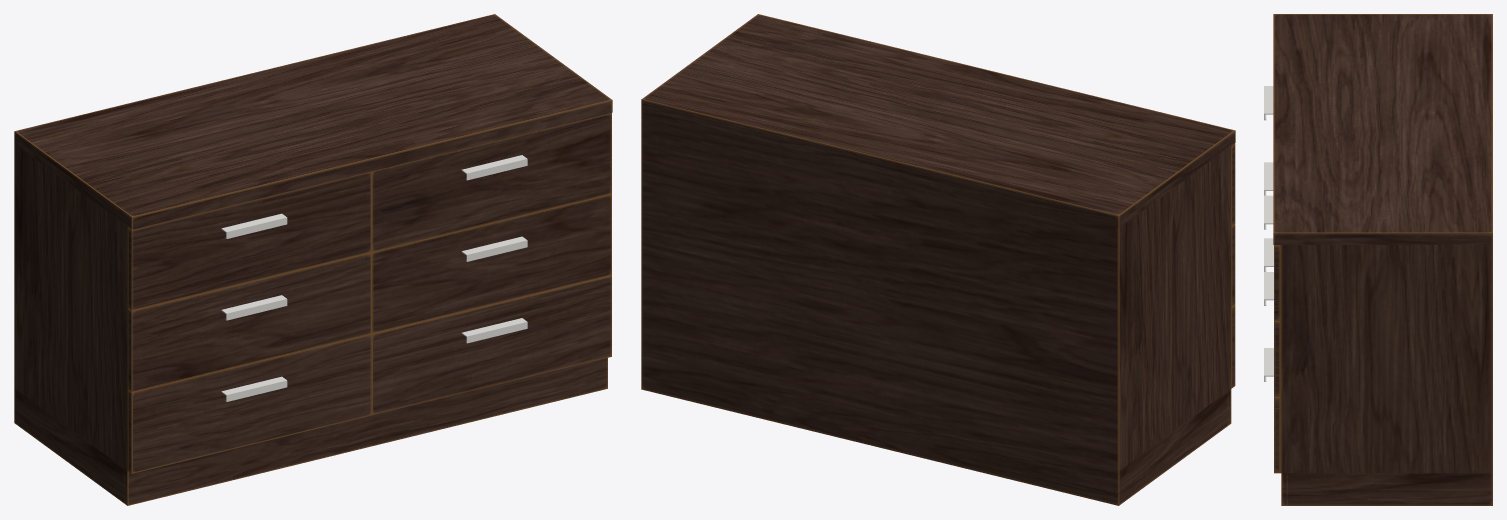
Rendered from wooden_cabinet_2.glb.
3 views of the same model, side by side, from view 1: azimuth 30°, elevation 25°; view 2: azimuth 150°, elevation 25°; view 3: azimuth 270°, elevation 25° (orthographic). The views are drawn at different scales.
Parts seen in each view (by area): view 1: Cabinet1.001_3, Cabinet1_2, Drawer.001_10, Drawer_8, Drawer.002_12, Drawer.003_14, Drawer.004_16, Drawer.005_18, Baseboard2_0, Cube.001_5, Handle_7, Handle.002_11 (+4 smaller); view 2: Cabinet1_2, Cabinet1.001_3, Cabinet2.003_4, Baseboard2.001_1, Cube.001_5; view 3: Cabinet1.001_3, Cabinet2.003_4, Cube.002_6, Drawer.003_14, Drawer.004_16, Drawer.005_18, Handle.005_17, Handle.002_11, Handle_7, Handle.001_9, Handle.003_13, Handle.004_15.
Boxes of the visible parts, <box> form: Cabinet1.001_3: <box>14,14,612,229</box>; Cabinet1_2: <box>14,144,127,470</box>; Drawer.001_10: <box>128,252,371,392</box>; Drawer_8: <box>128,334,371,473</box>; Drawer.002_12: <box>128,171,371,310</box>; Drawer.003_14: <box>372,275,611,415</box>; Drawer.004_16: <box>372,194,611,333</box>; Drawer.005_18: <box>372,113,611,252</box>; Baseboard2_0: <box>124,358,607,505</box>; Cube.001_5: <box>18,391,123,502</box>; Handle_7: <box>221,376,287,401</box>; Handle.002_11: <box>221,213,287,238</box>; Cabinet1_2: <box>880,146,1231,471</box>; Cabinet1.001_3: <box>641,14,1235,228</box>; Cabinet2.003_4: <box>641,112,879,412</box>; Baseboard2.001_1: <box>641,355,1122,505</box>; Cube.001_5: <box>1122,392,1227,502</box>; Cabinet1.001_3: <box>1273,14,1492,244</box>; Cabinet2.003_4: <box>1280,245,1492,473</box>; Cube.002_6: <box>1288,473,1486,505</box>; Drawer.003_14: <box>1274,397,1280,473</box>; Drawer.004_16: <box>1274,321,1280,397</box>; Drawer.005_18: <box>1274,245,1280,320</box>; Handle.005_17: <box>1264,195,1273,229</box>; Handle.002_11: <box>1264,86,1273,120</box>; Handle_7: <box>1264,238,1273,271</box>; Handle.001_9: <box>1264,162,1273,195</box>; Handle.003_13: <box>1264,348,1273,381</box>; Handle.004_15: <box>1264,272,1273,305</box>.
Size of the model in its own units: 1.44 by 0.836 by 0.6353.
Materials: 1 (1 with a texture image).
